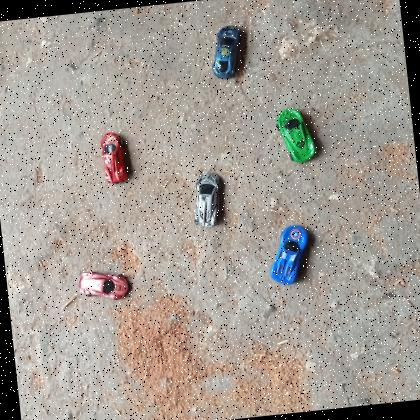Car: (264, 222, 314, 287), (274, 104, 319, 166), (188, 170, 226, 230), (76, 266, 133, 304), (207, 24, 245, 80), (98, 130, 133, 185)
